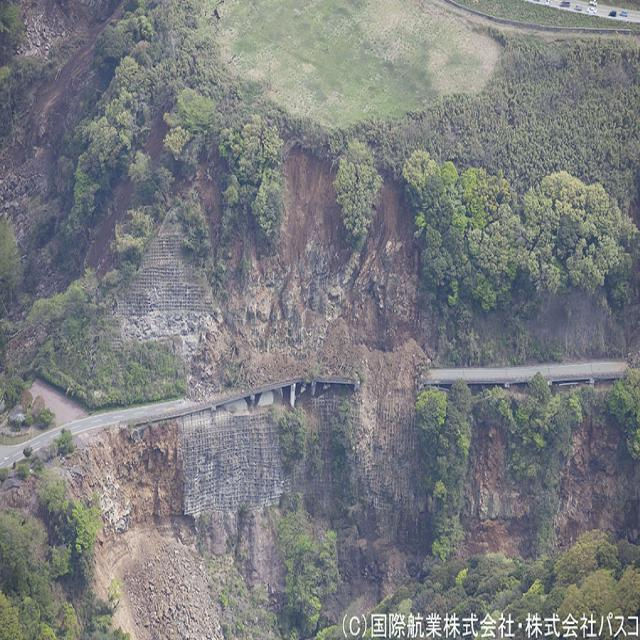Debris-flow: (49, 148, 439, 639), (551, 420, 640, 548), (460, 428, 538, 555)
